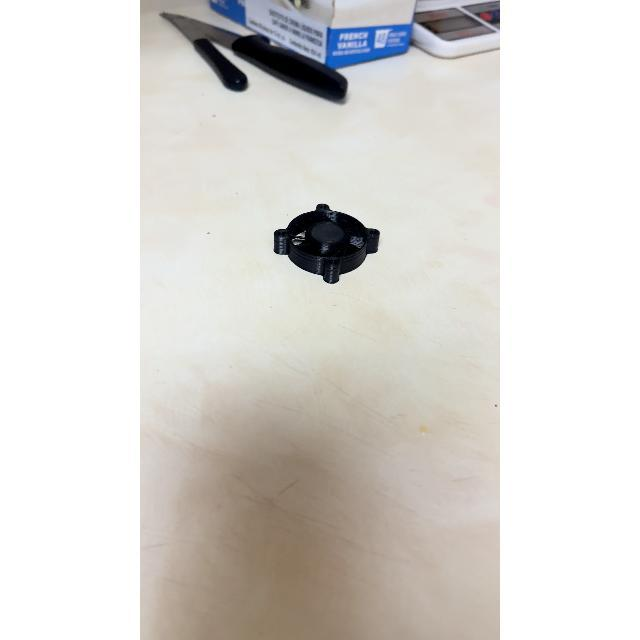Pieza4: (265, 184, 389, 300)
